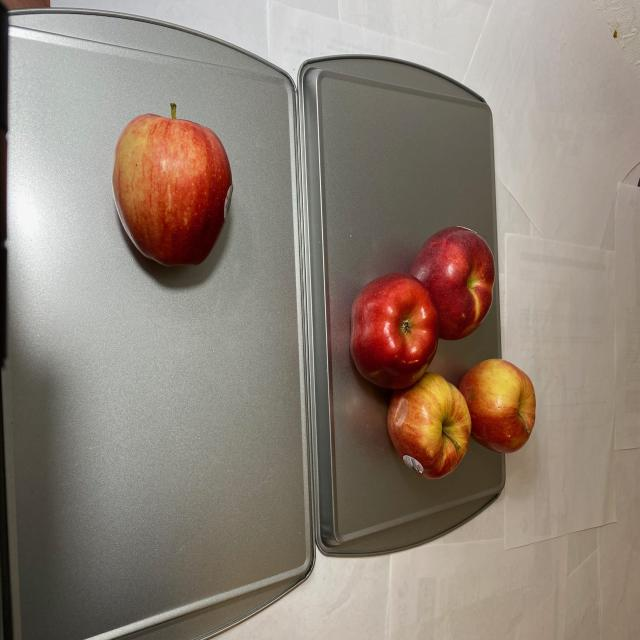apple: (350, 220, 535, 484), (113, 99, 236, 276)
